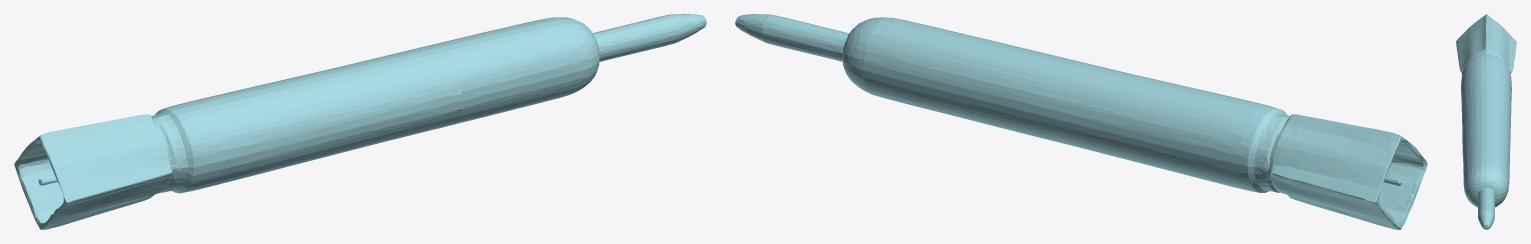
Rendered from staples_open.obj.
3 views of the same model, side by side, from view 1: azimuth 30°, elevation 25°; view 2: azimuth 150°, elevation 25°; view 3: azimuth 270°, elevation 25° (orthographic). The views are drawn at different scales.
Visible parts, largest first — view 1: geometry_0; view 2: geometry_0; view 3: geometry_0.
Part boxes in pixels (bbox=[...]): geometry_0: bbox=[14, 14, 706, 229]; geometry_0: bbox=[735, 14, 1427, 229]; geometry_0: bbox=[1456, 14, 1516, 229].
Bounding box in the file's own units: 0.1499 × 0.0207 × 0.0207.
